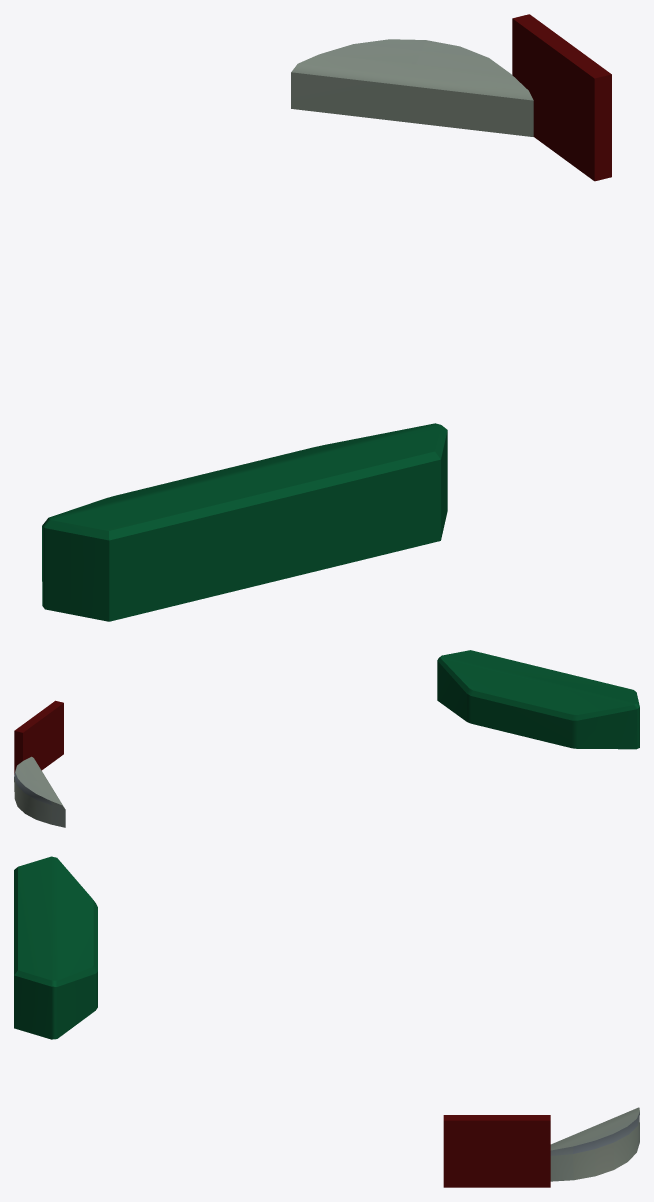
The model's file is Table_ENV.fbx.
3 renders of one model, top to bottom at view 1: azimuth 30°, elevation 25°; view 2: azimuth 150°, elevation 25°; view 3: azimuth 270°, elevation 25°, orthographic. The views are drawn at different scales.
Visible parts, largest first — view 1: Bot_Mid_Bumper, Corner_Bumper_TR, Right_door_1; view 2: Bot_Mid_Bumper, Right_door_1, Corner_Bumper_TR; view 3: Bot_Mid_Bumper, Right_door_1, Corner_Bumper_TR.
Part boxes in pixels (x1,y1,x2,y2): Bot_Mid_Bumper: (42,423,447,621); Corner_Bumper_TR: (291,39,533,136); Right_door_1: (512,14,611,181); Bot_Mid_Bumper: (437,650,639,749); Right_door_1: (14,700,63,774); Corner_Bumper_TR: (14,756,65,827); Bot_Mid_Bumper: (14,856,97,1039); Right_door_1: (443,1115,550,1187); Corner_Bumper_TR: (550,1107,639,1181).
Bounding box in the file's own units: 8.43 × 0.955 × 8.09.
